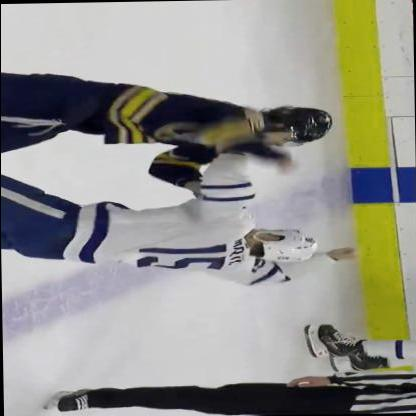voilence: (1, 80, 360, 291)
